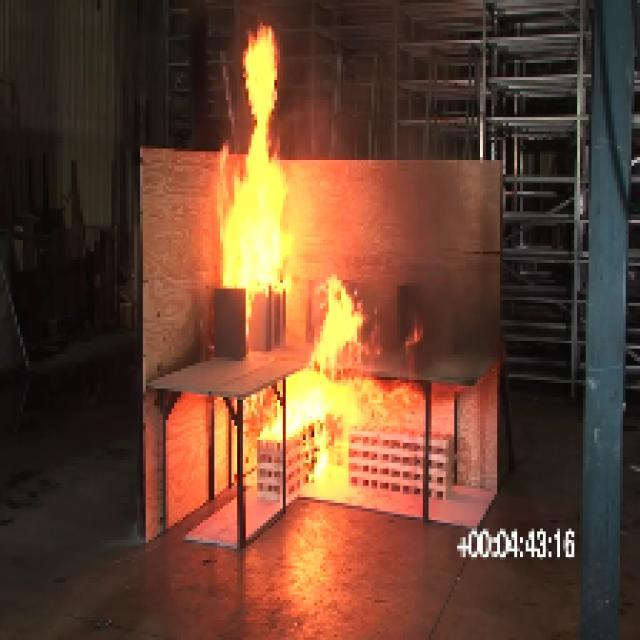Fire: (272, 370, 396, 448)
Smoke: (211, 27, 288, 296)
